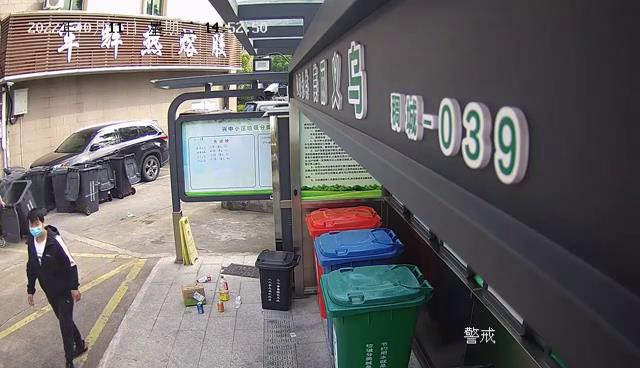lvzhipin: (216, 299, 225, 313), (196, 301, 205, 314)
person: (24, 206, 90, 368)
suliaozhipin: (217, 274, 231, 302), (194, 271, 214, 284)
zhizhipin: (180, 281, 207, 307)
